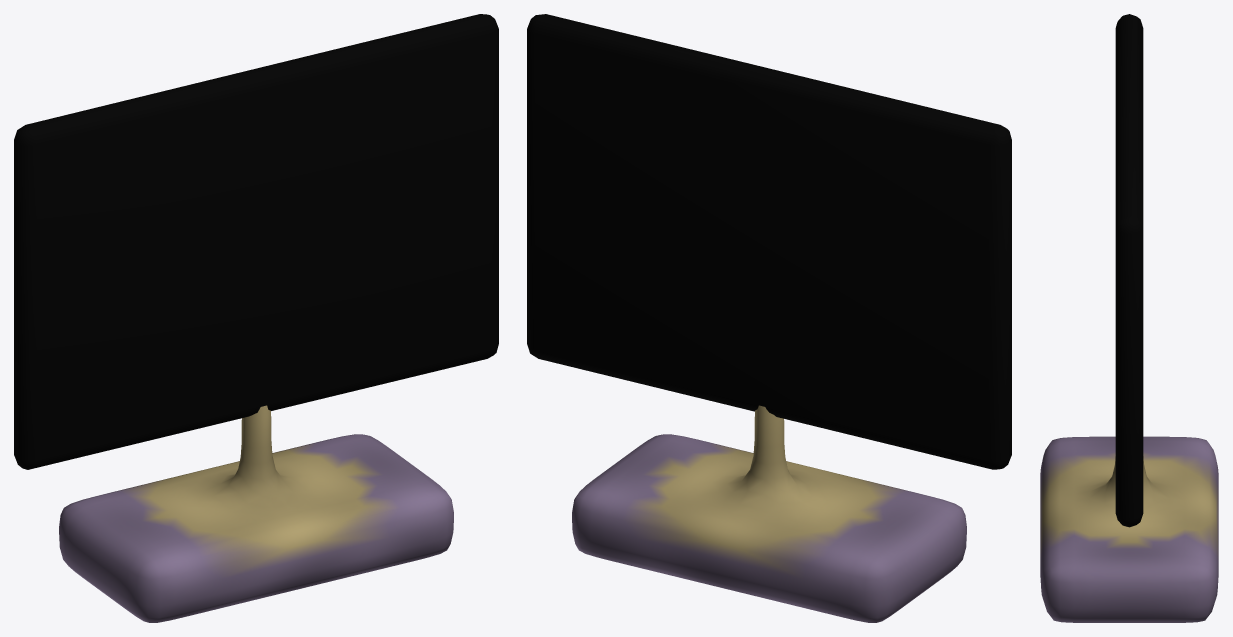
Rendered from mirror_stand.glb.
The picture shows the model from 3 angles, left to right: view 1: azimuth 30°, elevation 25°; view 2: azimuth 150°, elevation 25°; view 3: azimuth 270°, elevation 25°; orthographic projection. The views are drawn at different scales.
Parts seen in each view (by area): view 1: mirror, mirror_base; view 2: mirror, mirror_base; view 3: mirror_base, mirror.
Boxes of the visible parts, box(x1,y1,x2,y2) form: mirror: box(14, 14, 498, 469); mirror_base: box(59, 405, 453, 622); mirror: box(527, 14, 1011, 469); mirror_base: box(572, 405, 966, 622); mirror_base: box(1040, 436, 1218, 622); mirror: box(1115, 14, 1143, 527).
Bounding box in the file's own units: 2.2 × 2.15 × 0.7818.
Materials: 2 (2 with a texture image).
